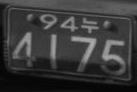1: (43, 34, 65, 69)
4: (11, 30, 36, 68), (59, 15, 78, 32)
5: (100, 38, 127, 77)
7: (70, 35, 97, 73)
9: (39, 12, 57, 30)
누: (81, 16, 100, 34)
